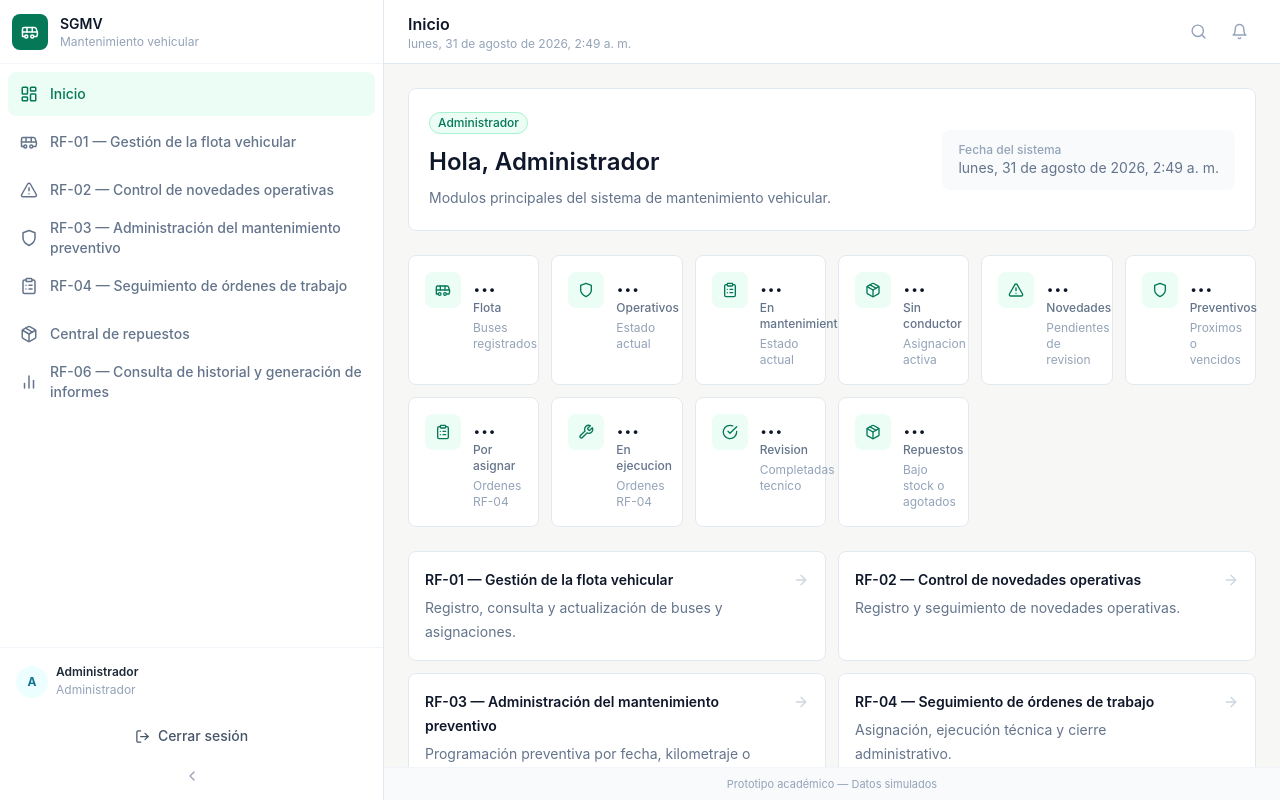
Test: App authentication and role navigation › closes the active session through POST /auth/logout
Click the button "Cerrar sesión" at (192, 736), box top-left (8, 716), bottom-right (375, 756)
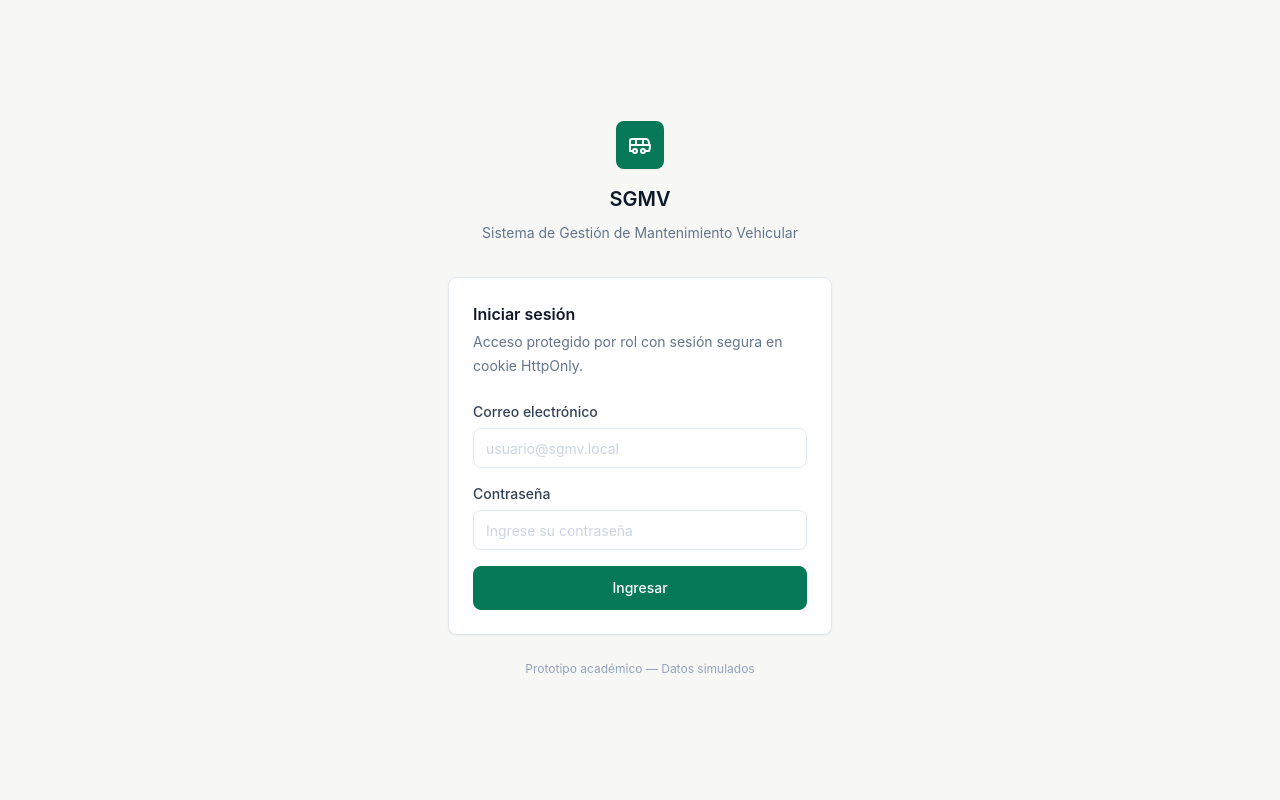
Expected: the heading "Iniciar sesión" is shown, top-left (473, 304), bottom-right (575, 324)
